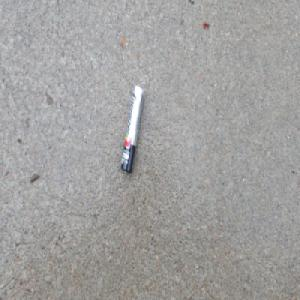Battery: (119, 83, 144, 175)
